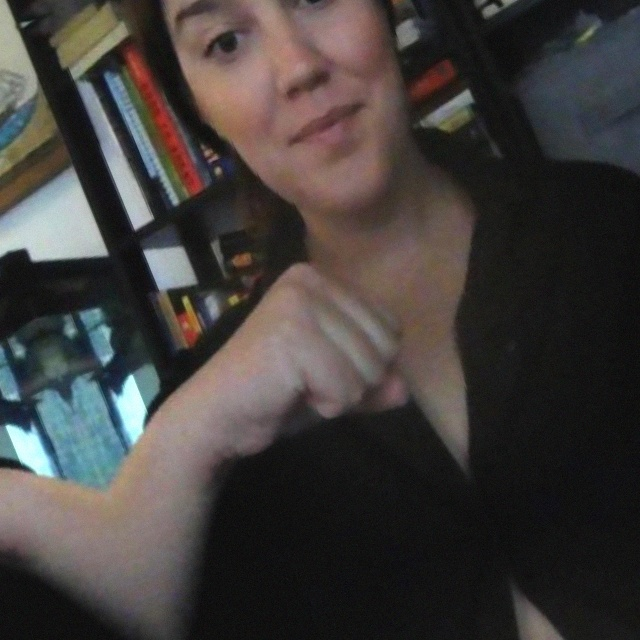Rock: (0, 396, 18, 640)
